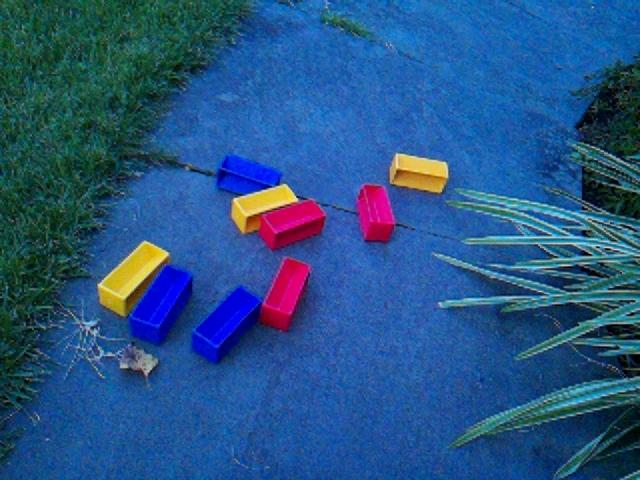blue: (191, 285, 263, 365), (128, 263, 194, 345), (215, 152, 283, 196)
red: (259, 256, 312, 332), (258, 198, 327, 250), (355, 182, 397, 244)
yellow: (97, 239, 171, 318), (231, 183, 299, 235), (388, 151, 451, 195)
